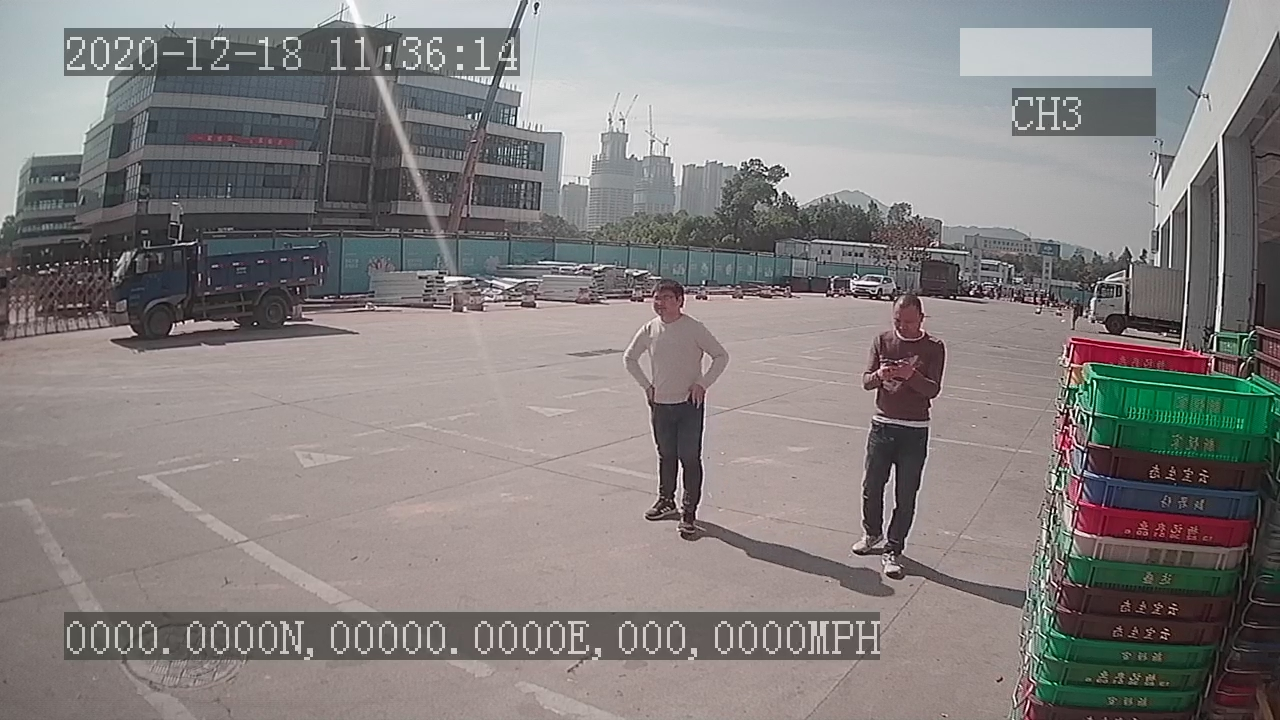person: (847, 293, 955, 577), (624, 274, 731, 542)
